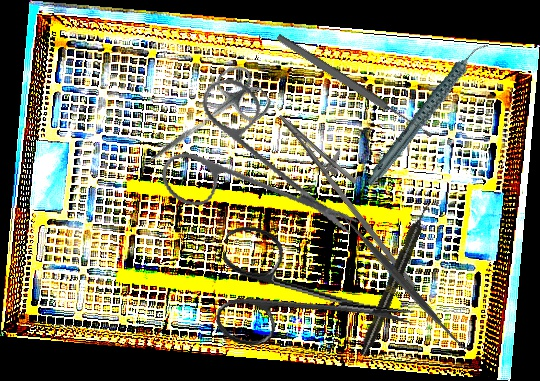Handpiece: (342, 39, 513, 188), (356, 201, 434, 359)
Iris Scissors: (143, 57, 360, 274), (208, 222, 424, 373), (132, 59, 276, 188)
Needle Holder: (259, 101, 447, 290)
Spatula Surgical: (327, 200, 474, 360)
Surgical Spoon: (274, 32, 435, 141)
